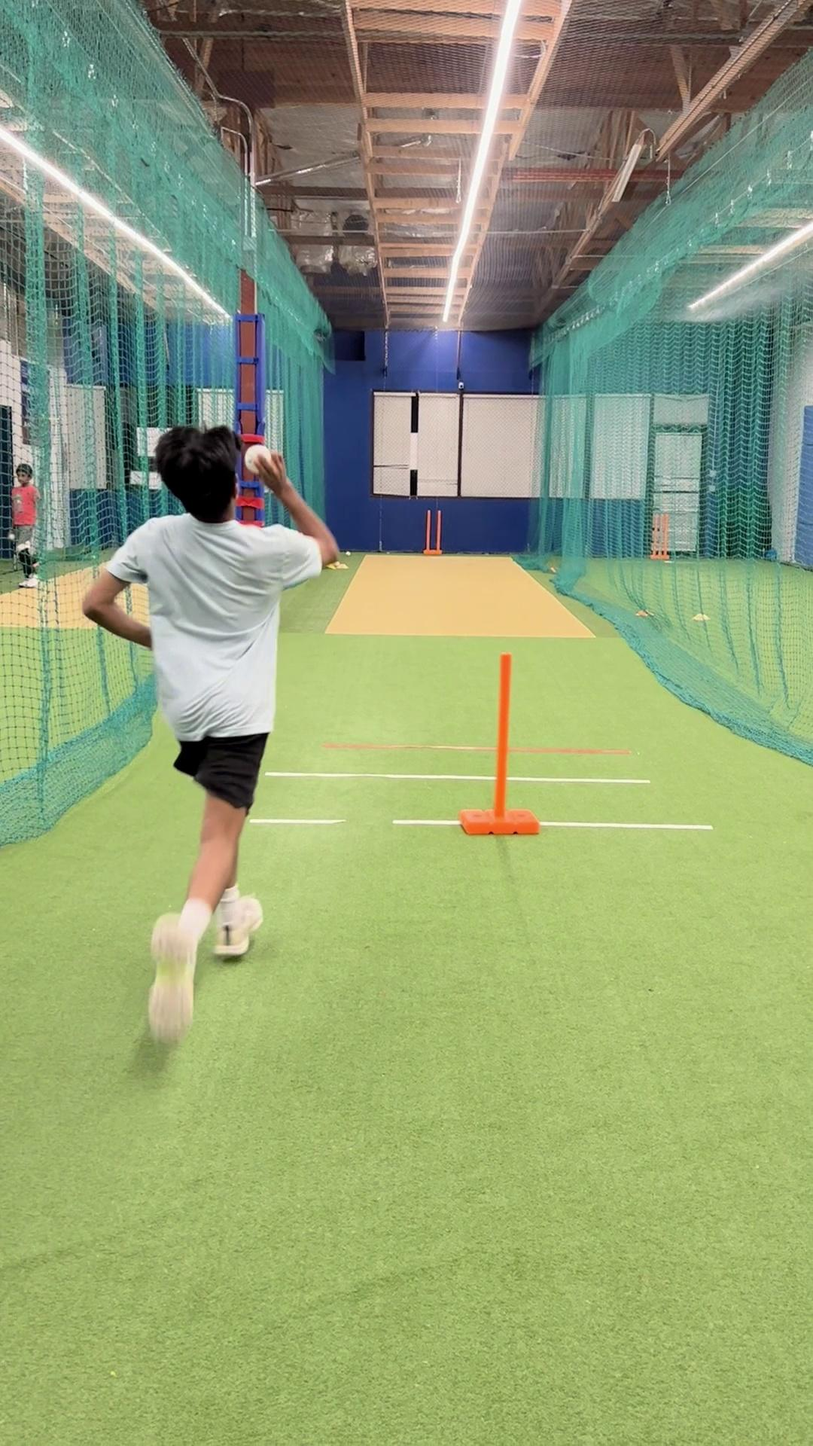ball: (236, 434, 279, 479)
